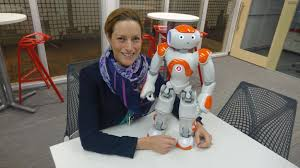nao: (137, 20, 221, 157)
